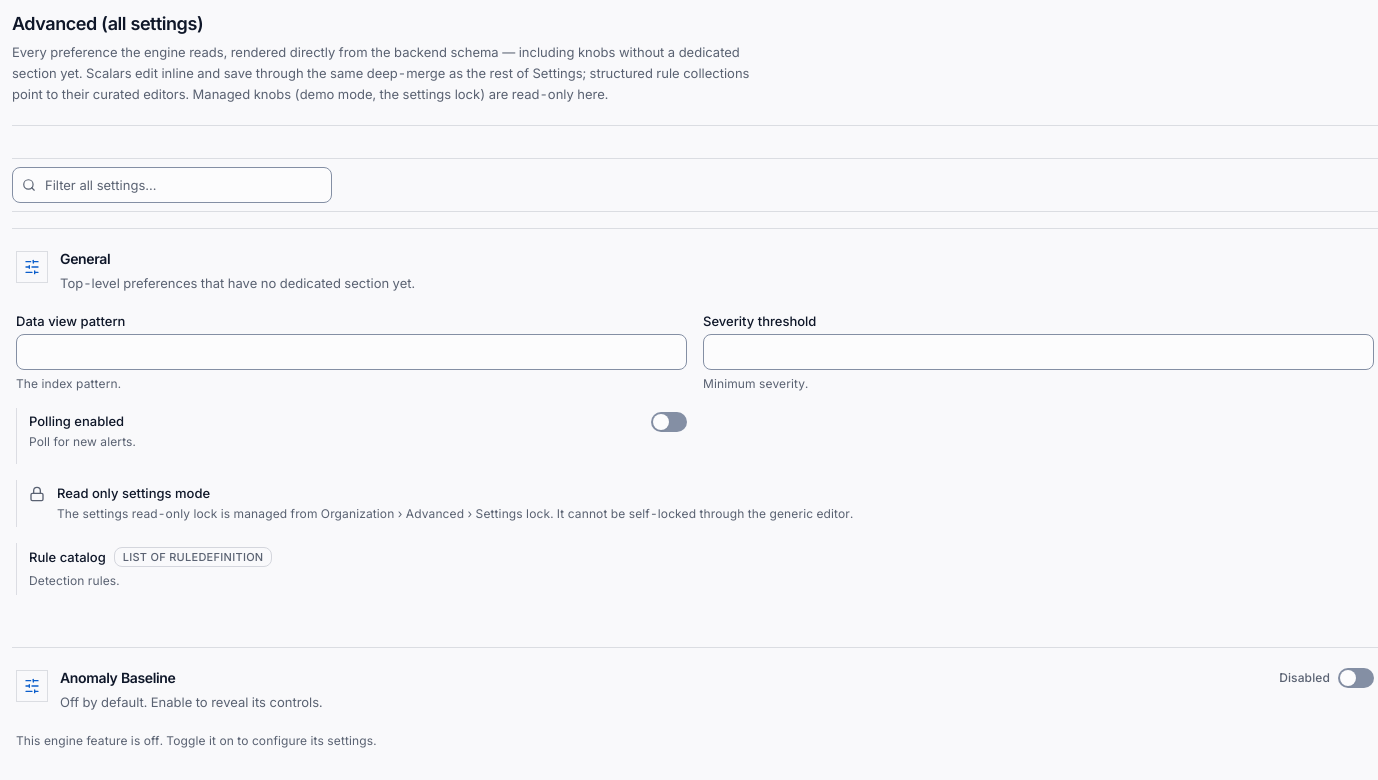
Scenario: AdvancedSchemaSection (schema-driven generic renderer) › filters to setting-level via the search box
The width and height of the screenshot is (1378, 780).
Expected: the field labelled "Data view pattern" is shown, [16,334,687,370]
Type "severity" into the field labelled "Filter all settings". click: (172, 185)
box: [12,167,332,203]
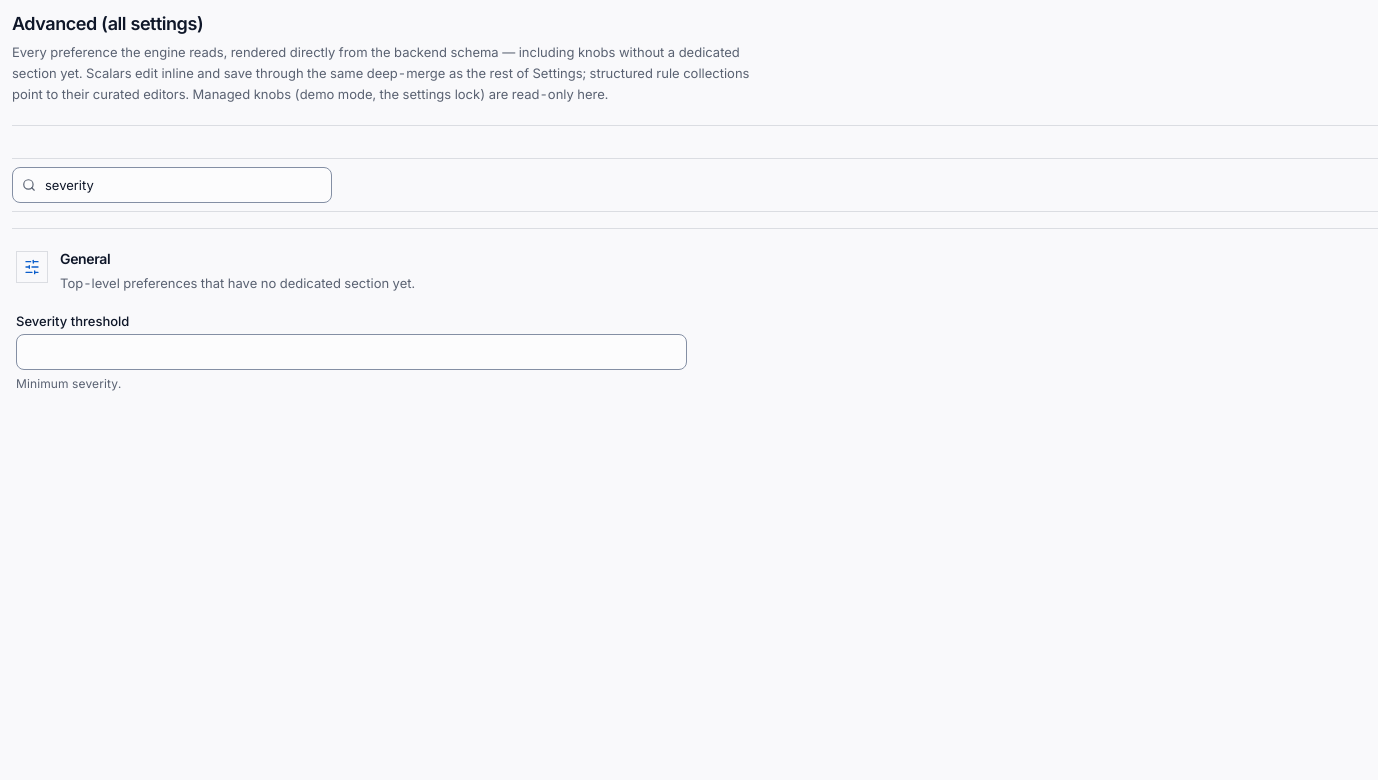
Expected: the number field labelled "Severity threshold" is shown, [16,334,687,370]
Expected: the label labelled "Data view pattern" is gone
